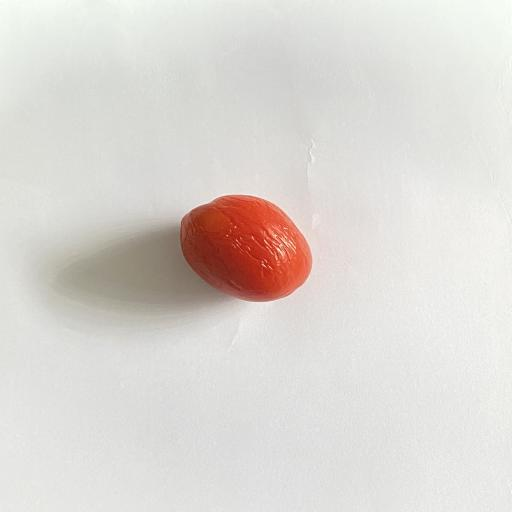spoiled: (180, 195, 312, 302)
